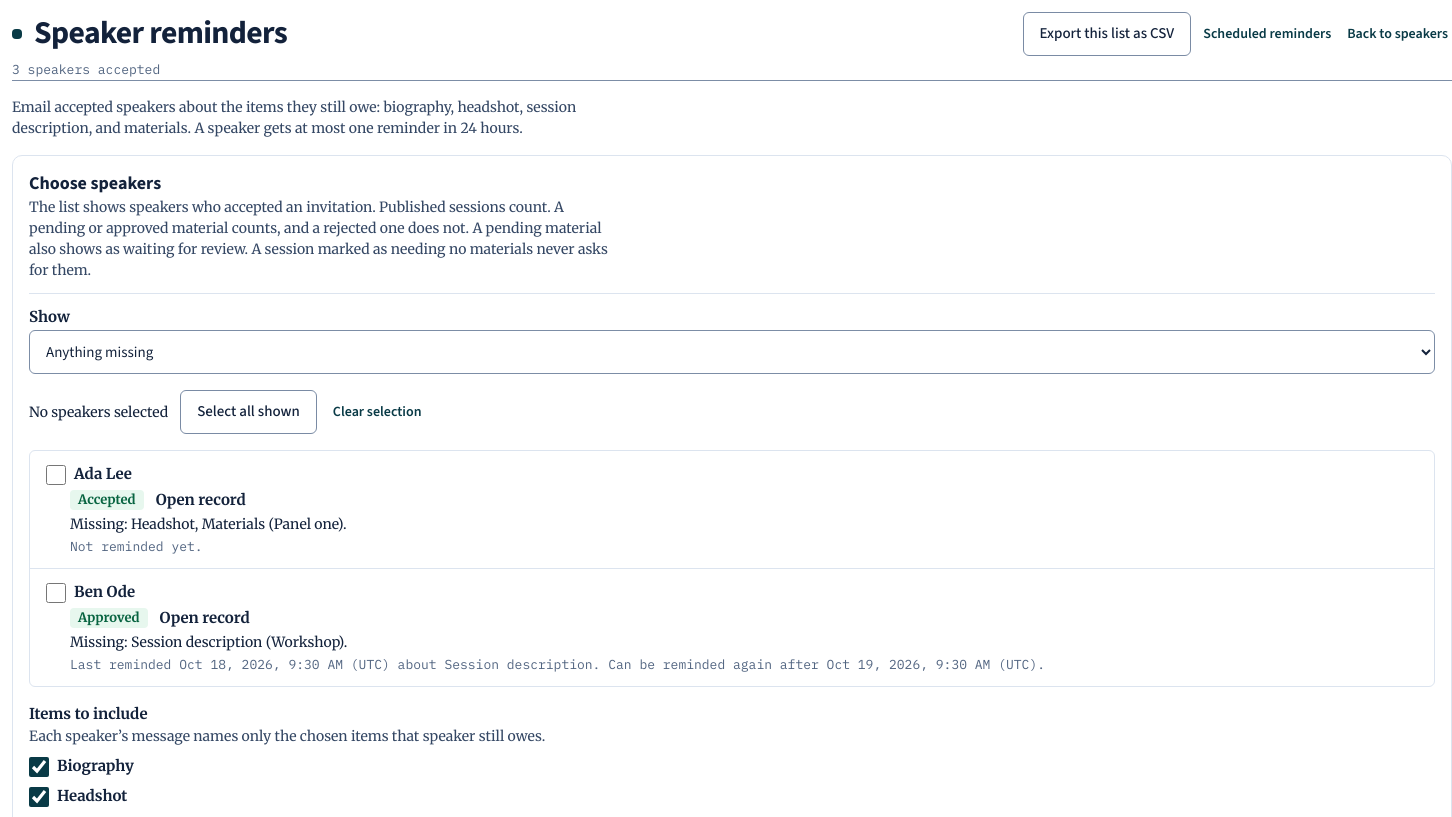
Test: speaker reminders list › narrows by group, keeps the group in the address, and clears the selection
Expected: the list named "Accepted speakers" is shown, [29,450,1435,687]
Click the checkbox labelled "Ada Lee" at (56, 475), box [46,465,66,485]
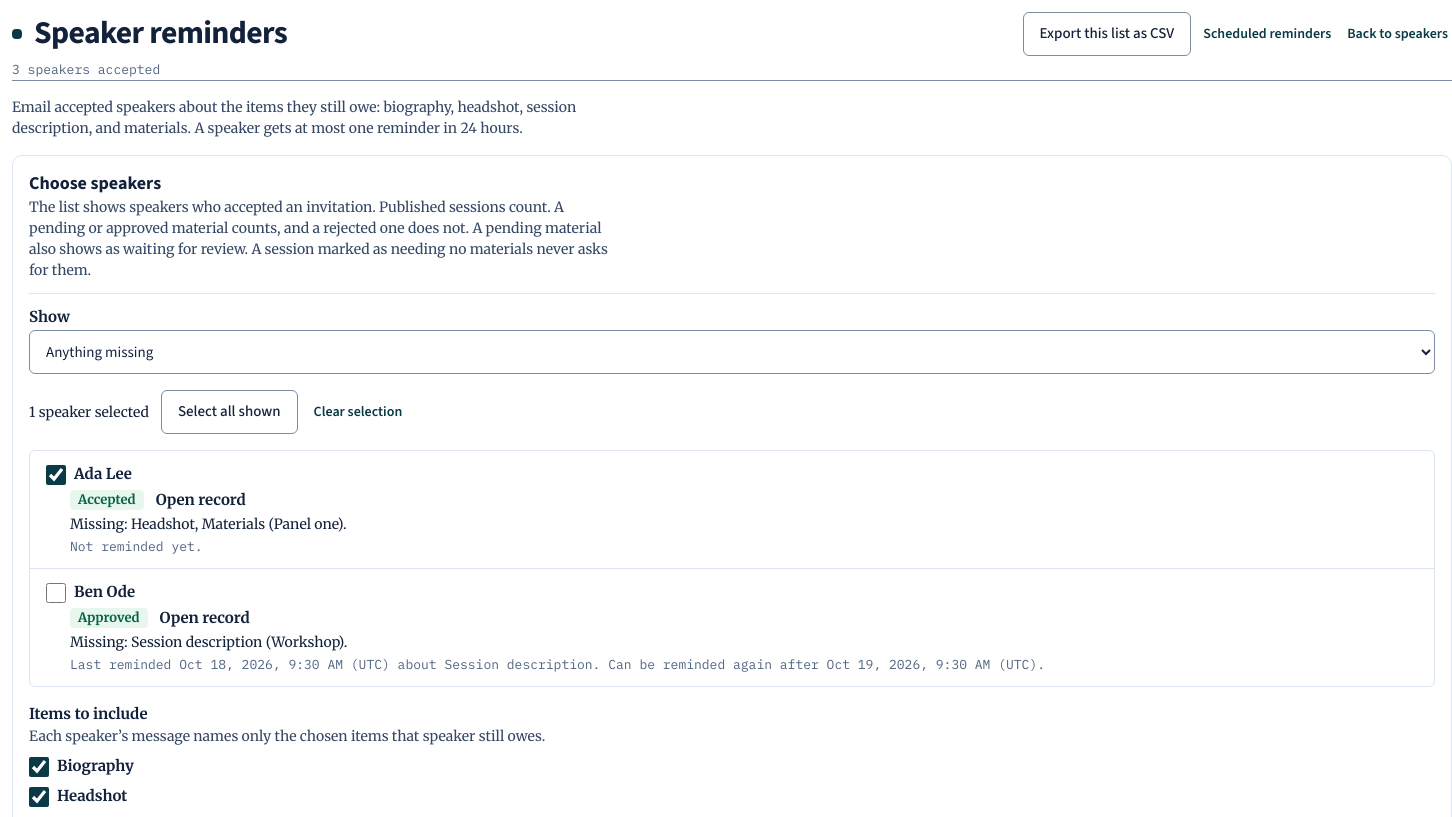
Result: the text "1 speaker selected" is shown at [29,402,149,423]
Select "Session description missing" in the dropdown labelled "Show" at (732, 352), box [29,330,1435,374]
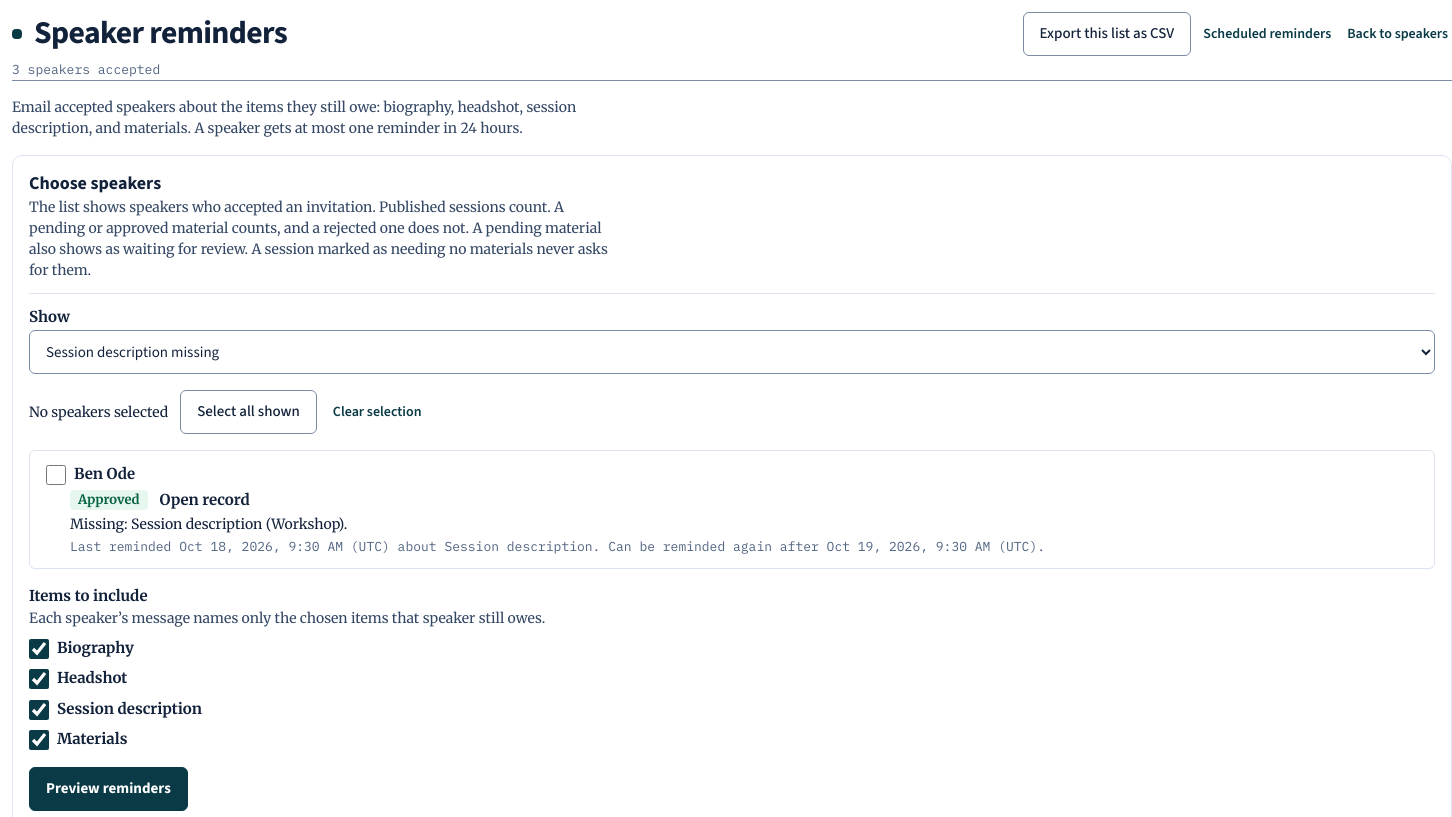
Expected: the checkbox labelled "Ben Ode" is shown, [46,465,66,485]
Result: the text "No speakers selected" is shown at [29,402,168,423]
Result: the number of list items is 1 at [46,464,1045,555]
